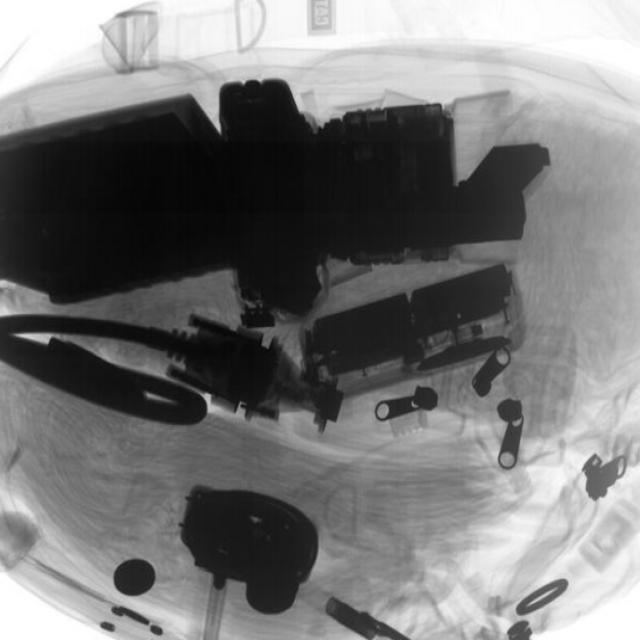BLADE: (508, 569, 576, 631)
GUN: (391, 135, 555, 262)
